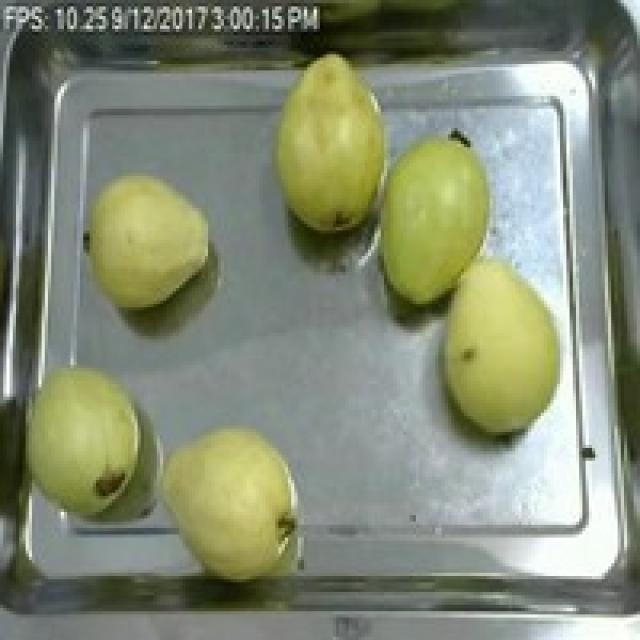Fruit: (426, 246, 579, 445), (150, 410, 314, 595), (259, 45, 406, 243), (362, 125, 506, 317), (3, 349, 157, 525), (70, 160, 218, 320)
